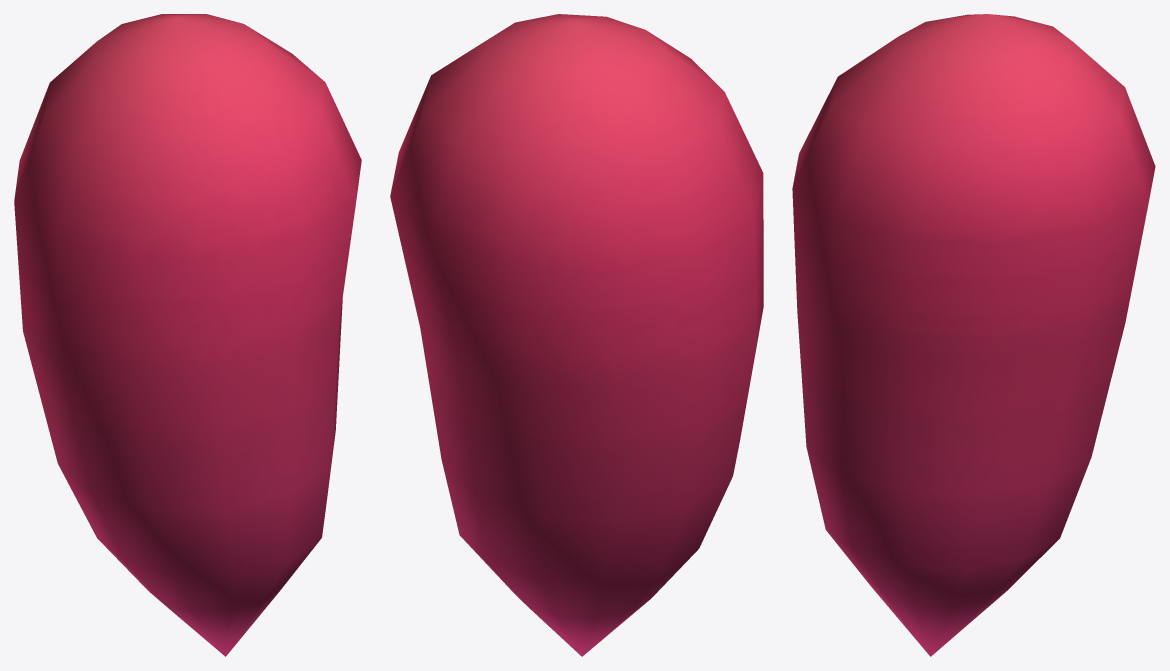
File: sweetpotato.glb
The picture shows the model from 3 angles, left to right: view 1: azimuth 30°, elevation 25°; view 2: azimuth 150°, elevation 25°; view 3: azimuth 270°, elevation 25°; orthographic projection. The views are drawn at different scales.
Visible parts, largest first — view 1: SM_SweetPotato2; view 2: SM_SweetPotato2; view 3: SM_SweetPotato2.
Part boxes in pixels (bbox=[...]): SM_SweetPotato2: bbox=[14, 14, 361, 656]; SM_SweetPotato2: bbox=[390, 14, 763, 656]; SM_SweetPotato2: bbox=[792, 14, 1155, 656].
Size of the model in its own units: 0.3121 by 0.6193 by 0.3221.
1 material, 1 textured.
